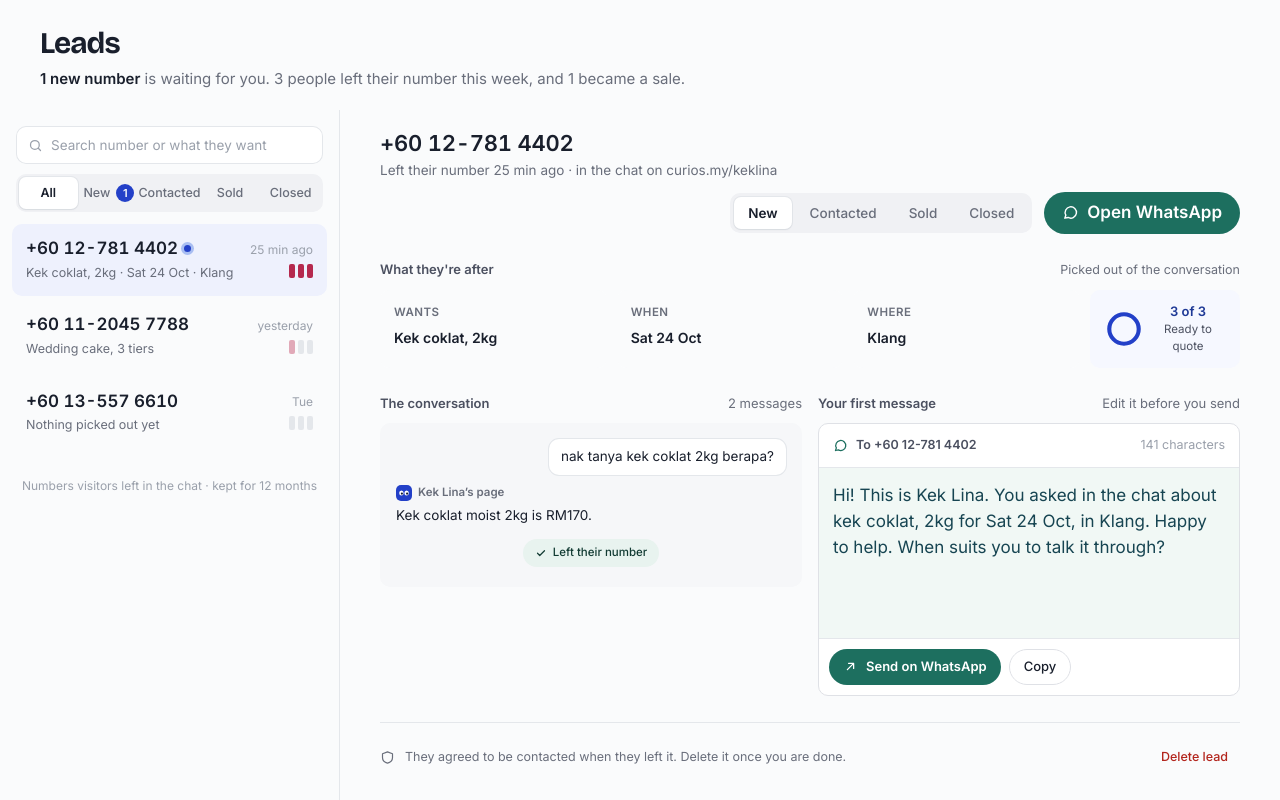
LeadsScreen, the list › opens the newest first, and the one chosen
Expected: the heading "+60 12-781 4402" is shown, [380, 130, 574, 156]
Click the button "+60 11-2045 7788 Wedding cake, 3 tiers yesterday" at (170, 336), box [12, 300, 327, 373]
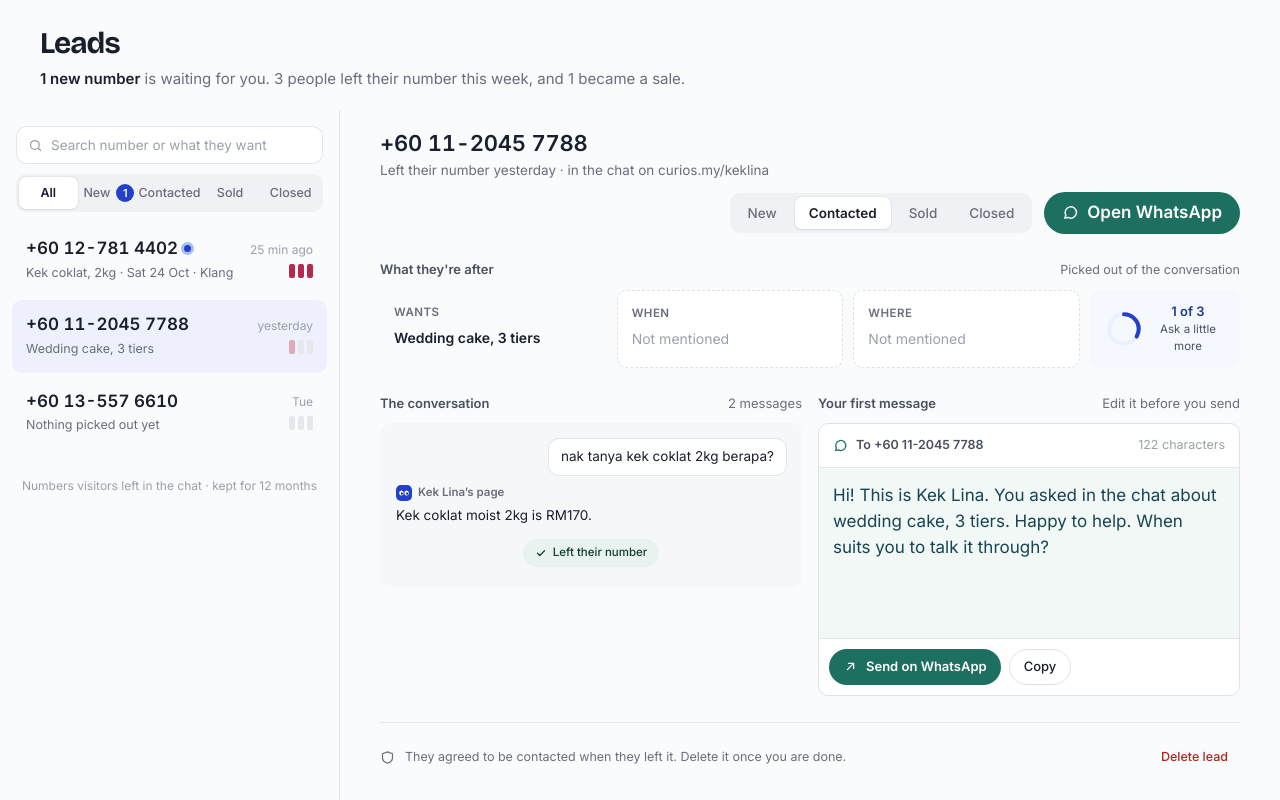
Now the heading "+60 11-2045 7788" is shown, box [380, 130, 588, 156]
